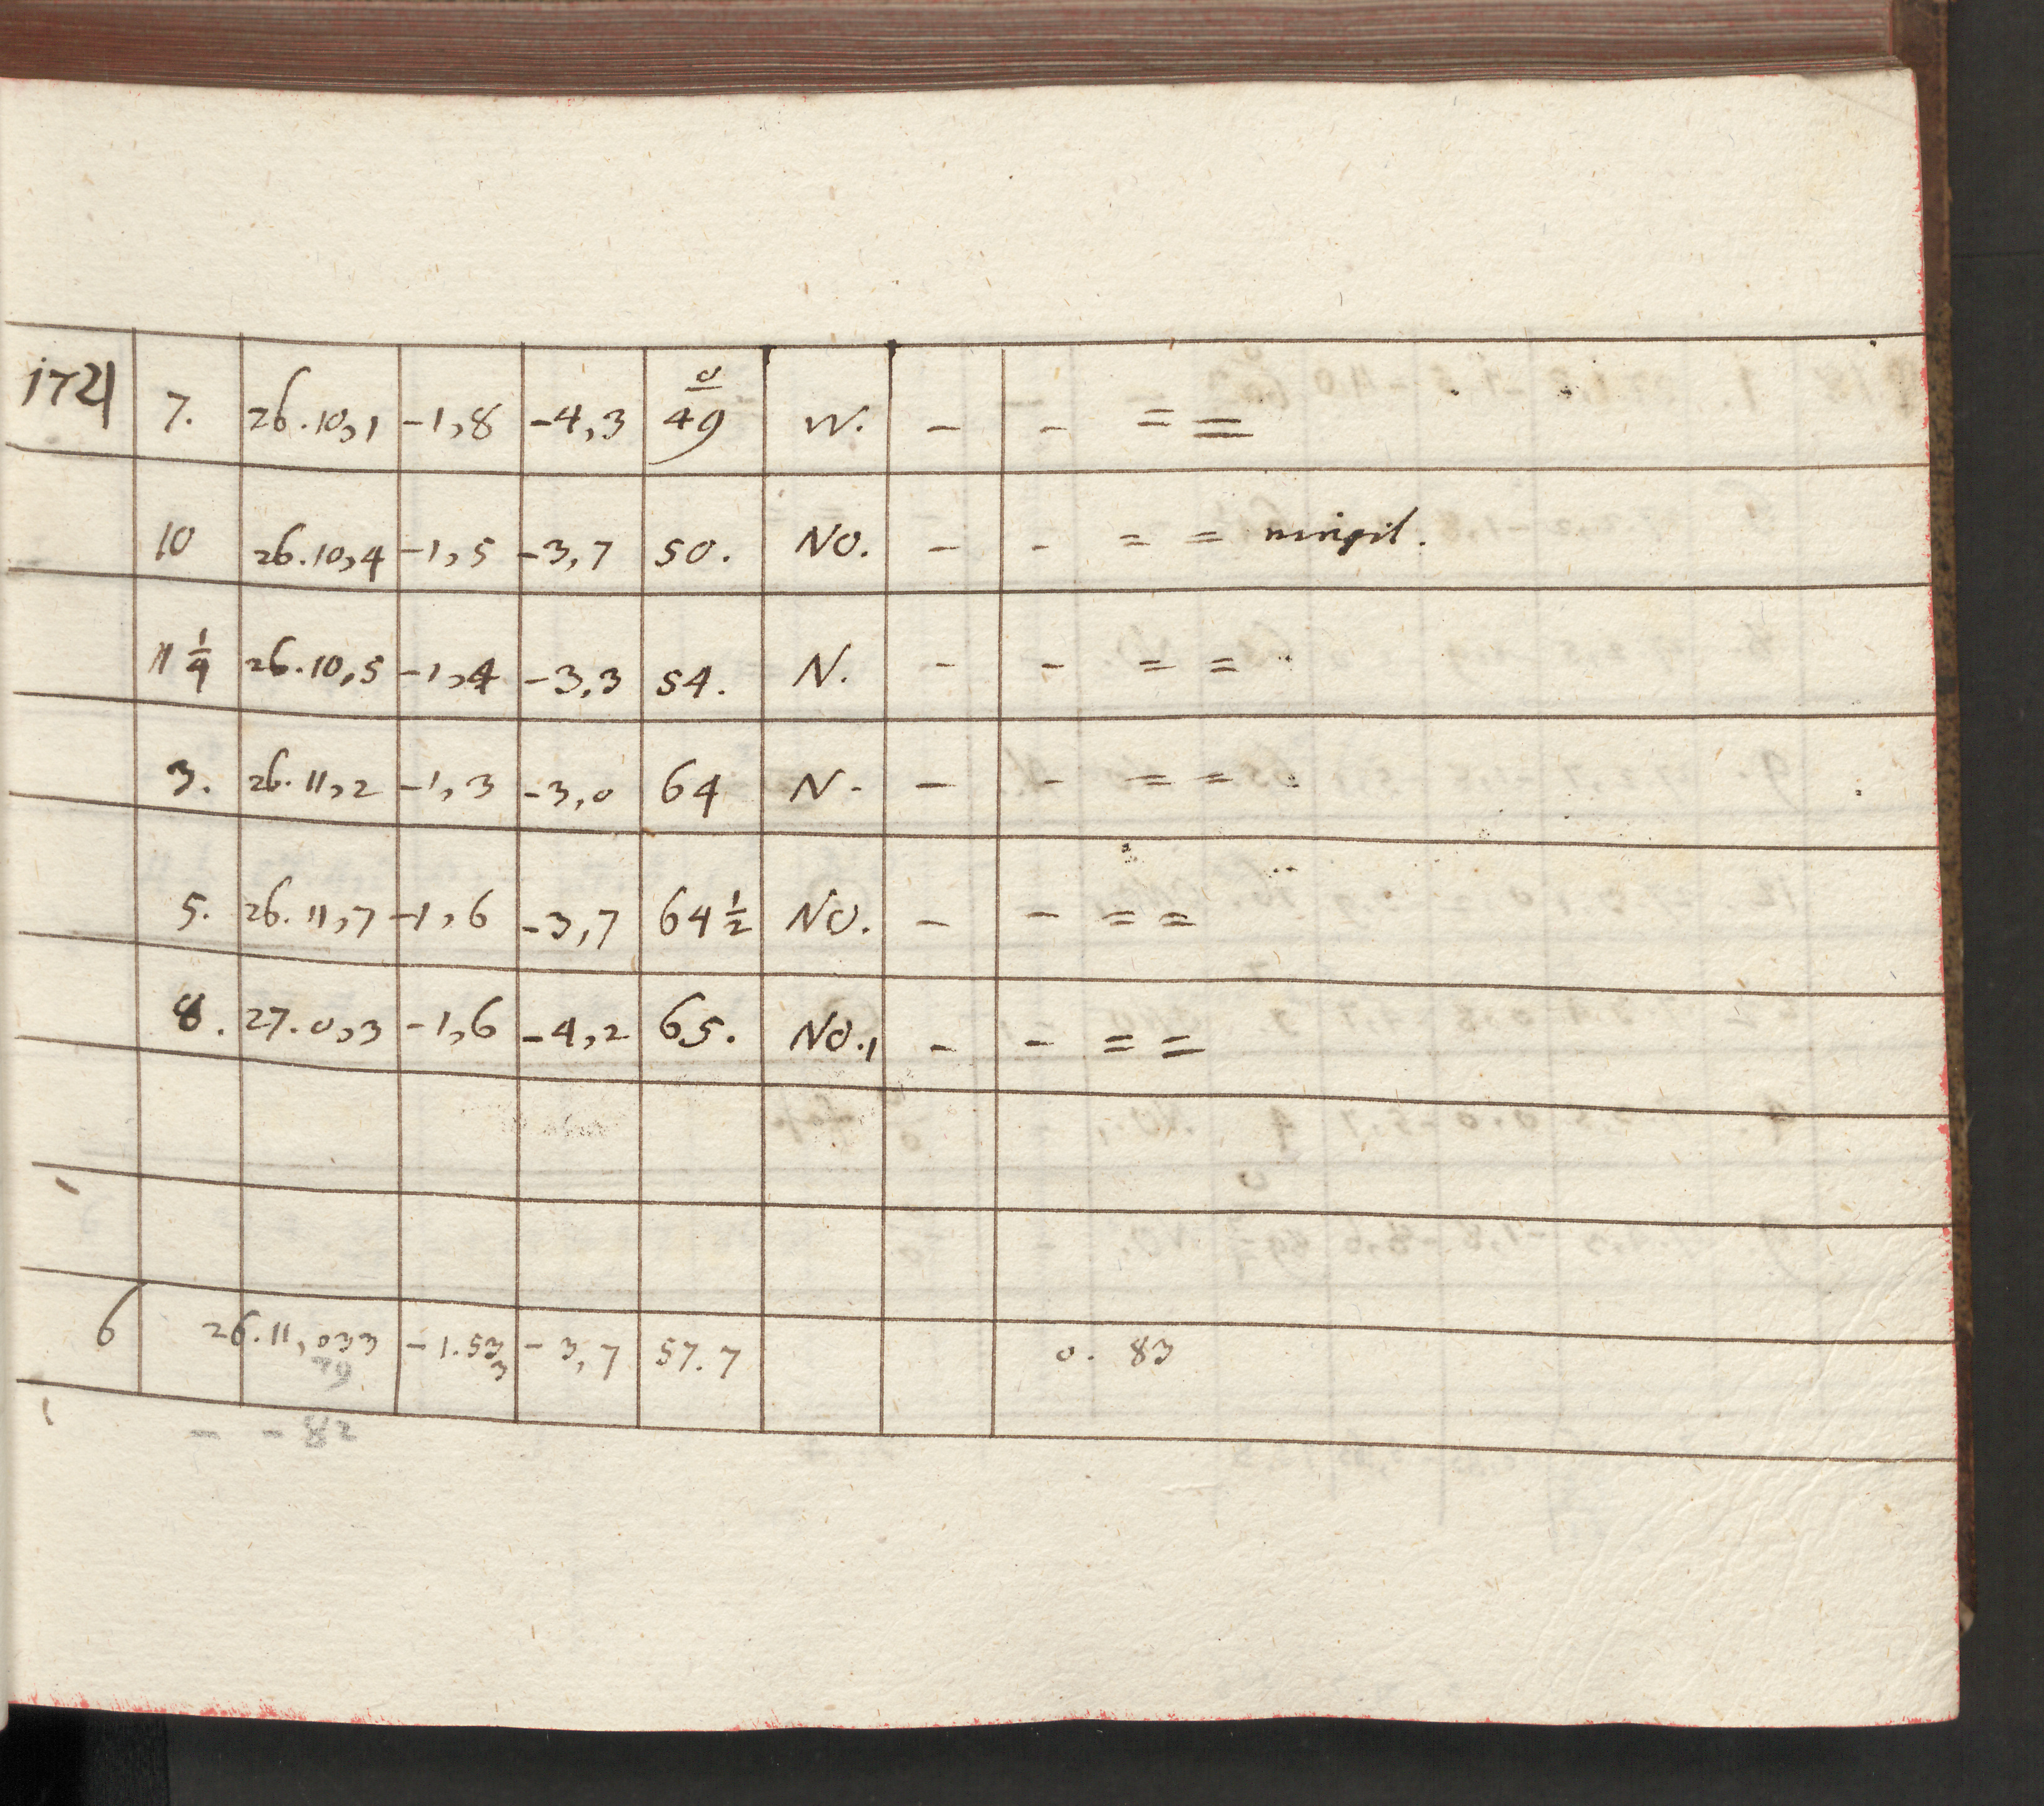bordered: (7, 322, 1953, 1464)
